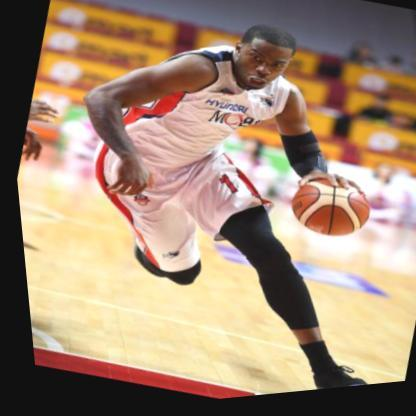basketball: (280, 177, 374, 254)
